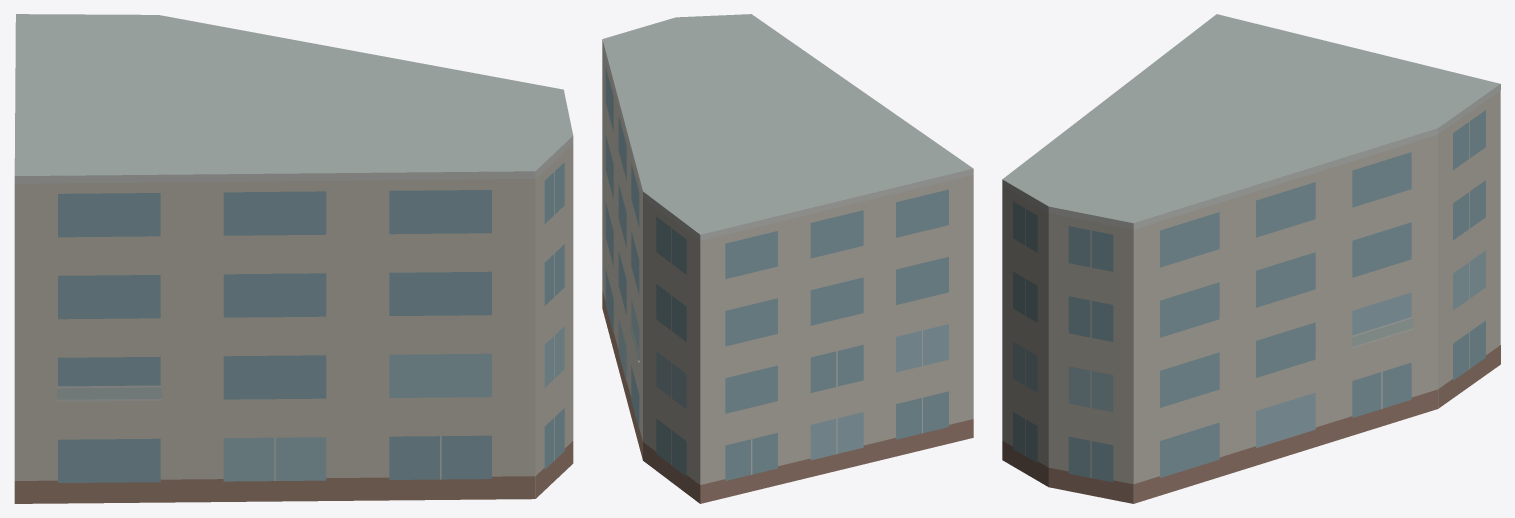
The model's file is survey-upis-33021393.glb.
The picture shows the model from 3 angles, left to right: view 1: azimuth 30°, elevation 25°; view 2: azimuth 150°, elevation 25°; view 3: azimuth 270°, elevation 25°; orthographic projection. The views are drawn at different scales.
Parts seen in each view (by area): view 1: survey-upis-33021393.tmp; view 2: survey-upis-33021393.tmp; view 3: survey-upis-33021393.tmp.
Part boxes in pixels (x1=…): survey-upis-33021393.tmp: x1=14, y1=14, x2=573, y2=503; survey-upis-33021393.tmp: x1=602, y1=14, x2=973, y2=503; survey-upis-33021393.tmp: x1=1002, y1=14, x2=1500, y2=503.
Size of the model in its own units: 16.95 by 10.6 by 17.07.
